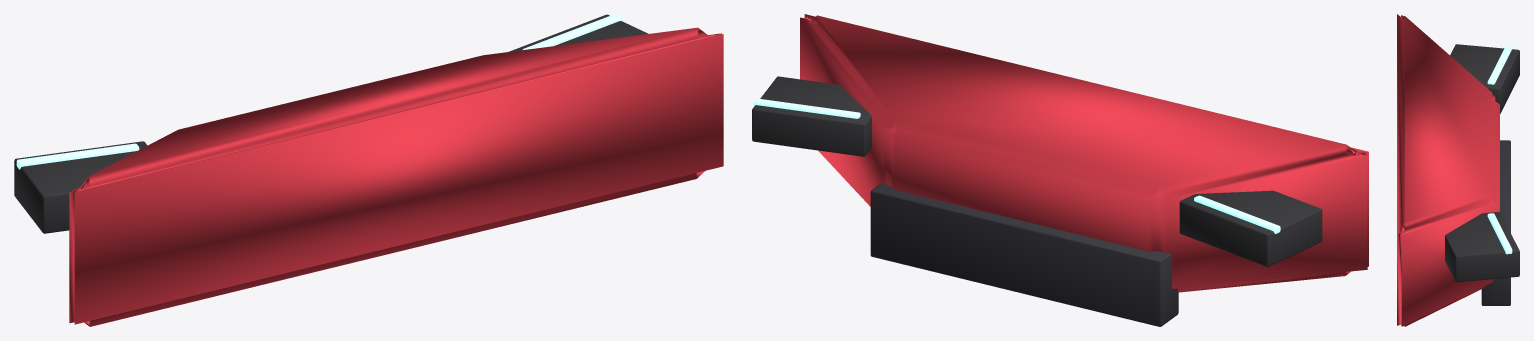
Rendered from hypercar_front_bumper_fascia.glb.
3 renders of one model, left to right at view 1: azimuth 30°, elevation 25°; view 2: azimuth 150°, elevation 25°; view 3: azimuth 270°, elevation 25°, orthographic. The views are drawn at different scales.
Parts seen in each view (by area): view 1: Hypercar_Front_Bumper_Fascia; view 2: Hypercar_Front_Bumper_Fascia; view 3: Hypercar_Front_Bumper_Fascia.
Boxes of the visible parts, x1,y1,x2,y2 form: Hypercar_Front_Bumper_Fascia: (14, 14, 723, 326); Hypercar_Front_Bumper_Fascia: (752, 14, 1368, 326); Hypercar_Front_Bumper_Fascia: (1397, 14, 1519, 326).
Bounding box in the file's own units: 1.43 × 0.3933 × 0.3342.
